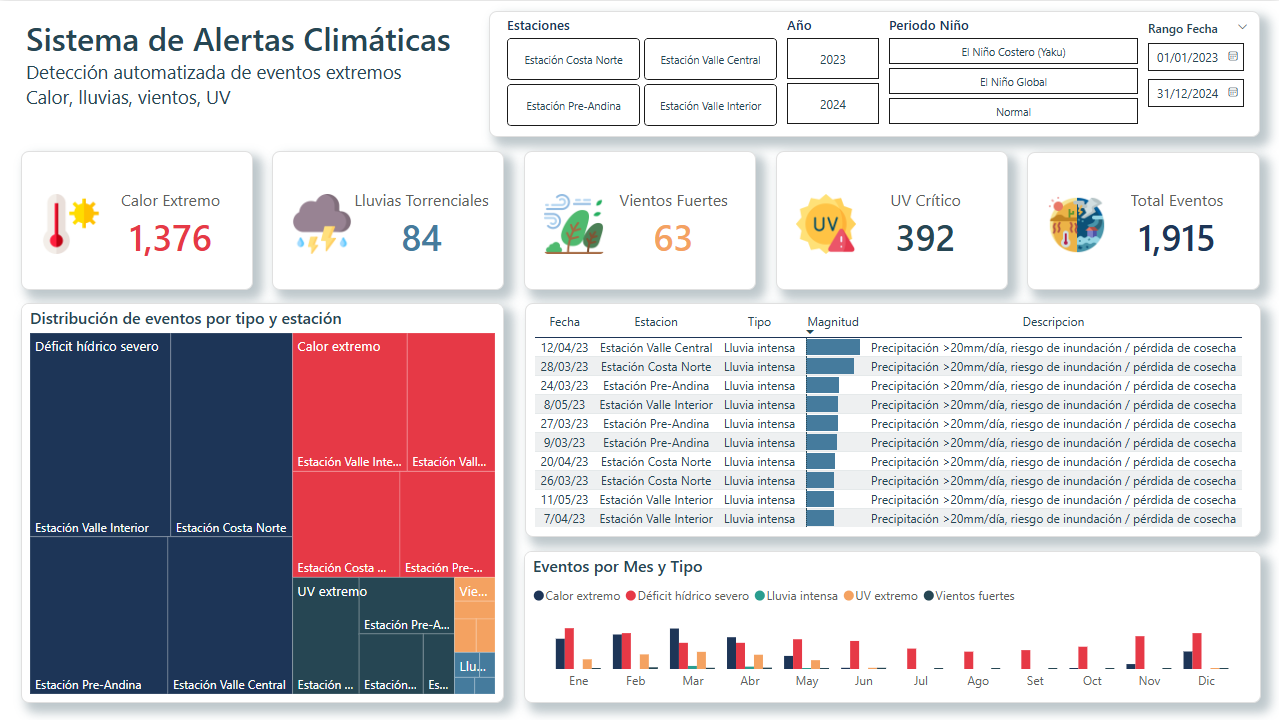

The page's visual inventory and layout, read from the dashboard file:
{"tool":"powerbi","page":{"name":"Alertas Climáticas","canvas":[1280,720],"ordinal":3},"visuals":[{"type":"shape","box":[489.2,10,770.7,125.7],"z":0},{"type":"textbox","box":[21.4,9.7,461,125.5],"z":1000},{"type":"advancedSlicerVisual","title":"Estaciones","fields":{"Values":["dim_station.station_name"]},"box":[502,15.5,279.7,114.8],"z":2000},{"type":"slicer","fields":{"Values":["dim_date.date_local"]},"box":[1135,14.5,125.5,114.8],"z":3000},{"type":"listSlicer","fields":{"Values":["dim_date.year"]},"box":[781.7,14.6,102,114.8],"z":4000},{"type":"listSlicer","fields":{"Values":["dim_date.enso_period"]},"box":[883.7,15.5,259.6,114.8],"z":5000},{"type":"cardVisual","fields":{"Data":["fact_daily_summary.Días con Calor Extremo"]},"box":[21,150.3,232,138.5],"z":6000},{"type":"cardVisual","fields":{"Data":["fact_daily_summary.Días Lluviosos"]},"box":[272,150.3,232,138.5],"z":7000},{"type":"cardVisual","fields":{"Data":["fact_daily_summary.Días con Vientos Fuertes"]},"box":[524,150.3,232,138.5],"z":8000},{"type":"cardVisual","fields":{"Data":["fact_daily_summary.Días con UV Crítico"]},"box":[776,150.3,232,138.5],"z":9000},{"type":"cardVisual","fields":{"Data":["_medidas.Total Días con Eventos"]},"box":[1027.1,150.8,232.5,138.1],"z":10000},{"type":"treemap","title":"Distribución de eventos por tipo y estación","fields":{"Group":["fact_extreme_events.event_type"],"Values":["CountNonNull(fact_extreme_events.event_id)"],"Details":["dim_station.station_name"]},"box":[21.4,302.5,482.4,399.8],"z":11000},{"type":"tableEx","fields":{"Values":["dim_date.date_local","dim_station.station_name","fact_extreme_events.event_type","fact_extreme_events.magnitude","fact_extreme_events.description"]},"box":[525.2,302.5,735.3,233.4],"z":12000},{"type":"clusteredColumnChart","title":"Eventos por Mes y Tipo","fields":{"Category":["dim_date.month_3name"],"Y":["CountNonNull(fact_extreme_events.event_type)"],"Series":["fact_extreme_events.event_type"]},"box":[524.3,549.5,736.3,152.7],"z":13000}]}

Visuals, with their boxes in screenshot pixels (x1, y1, x2, y2), scaled from the page's 1280x720 canvas onto the 1279x720 screenshot:
shape: detection(489, 10, 1259, 136)
textbox: detection(21, 10, 482, 135)
"Estaciones" advancedSlicerVisual: detection(502, 16, 781, 130)
slicer - dim_date.date_local: detection(1134, 14, 1260, 129)
listSlicer - dim_date.year: detection(781, 15, 883, 129)
listSlicer - dim_date.enso_period: detection(883, 16, 1142, 130)
cardVisual - fact_daily_summary.Días con Calor Extremo: detection(21, 150, 253, 289)
cardVisual - fact_daily_summary.Días Lluviosos: detection(272, 150, 504, 289)
cardVisual - fact_daily_summary.Días con Vientos Fuertes: detection(524, 150, 755, 289)
cardVisual - fact_daily_summary.Días con UV Crítico: detection(775, 150, 1007, 289)
cardVisual - _medidas.Total Días con Eventos: detection(1026, 151, 1259, 289)
"Distribución de eventos por tipo y estación" treemap: detection(21, 302, 503, 702)
tableEx - dim_date.date_local x dim_station.station_name: detection(525, 302, 1260, 536)
"Eventos por Mes y Tipo" clusteredColumnChart: detection(524, 550, 1260, 702)
